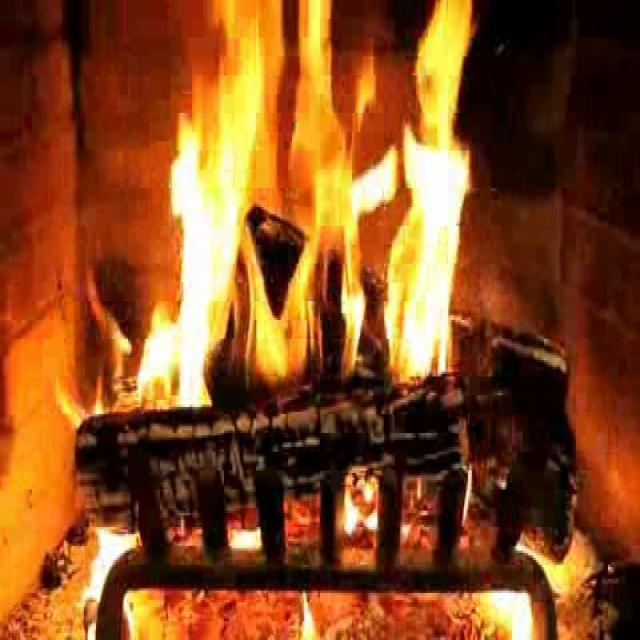Fire: (166, 0, 476, 394)
